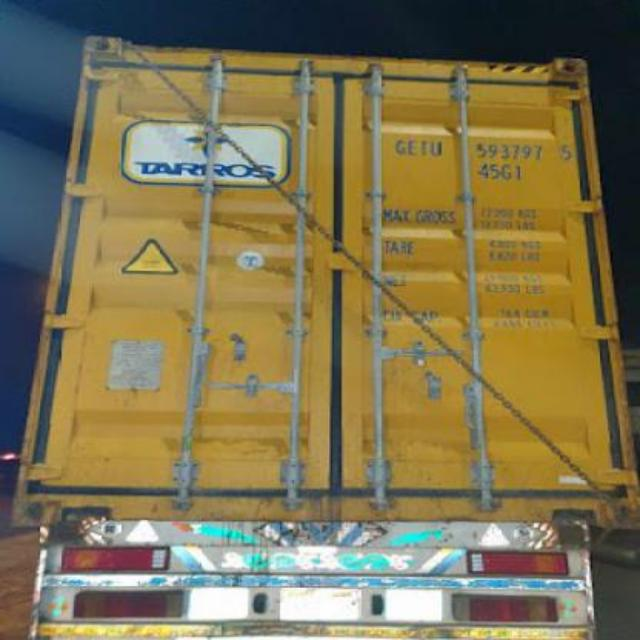3: (496, 138, 512, 164)
5: (558, 142, 576, 164), (472, 140, 488, 162)
7: (530, 139, 546, 165), (508, 142, 522, 162)
9: (520, 140, 532, 163), (486, 142, 499, 162)
E: (406, 136, 419, 158)
G: (390, 134, 408, 156)
T: (416, 136, 429, 160)
U: (430, 136, 448, 162)
